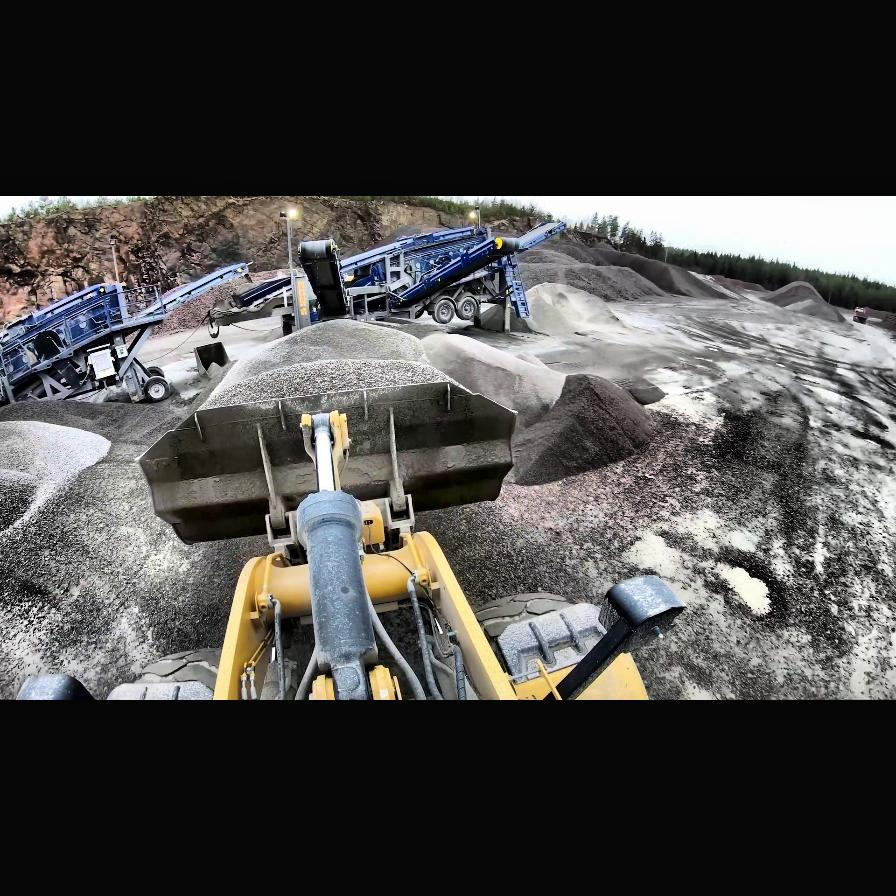anchor: (300, 410, 350, 494)
pile of gravel: (191, 319, 652, 499), (197, 318, 458, 404), (0, 420, 112, 540), (0, 389, 190, 453), (589, 251, 719, 298), (762, 280, 846, 320)
